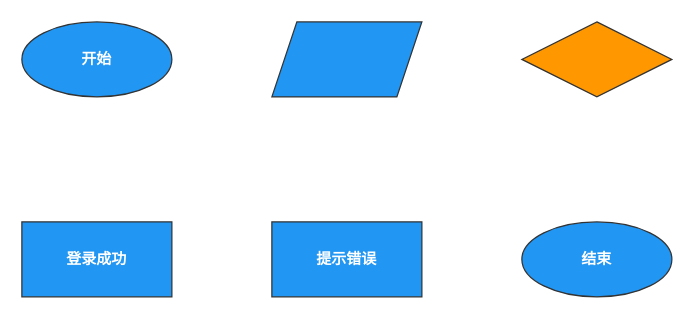
The diagram is 694 pixels wide and 319 high, and some of its shapes have lost their labels. The shapes that lost their labels are listed below. From the top down, each one's centre as x and y in pixels, then its label:
the point at 346,59: 输入账号密码
the point at 596,59: 验证通过？
